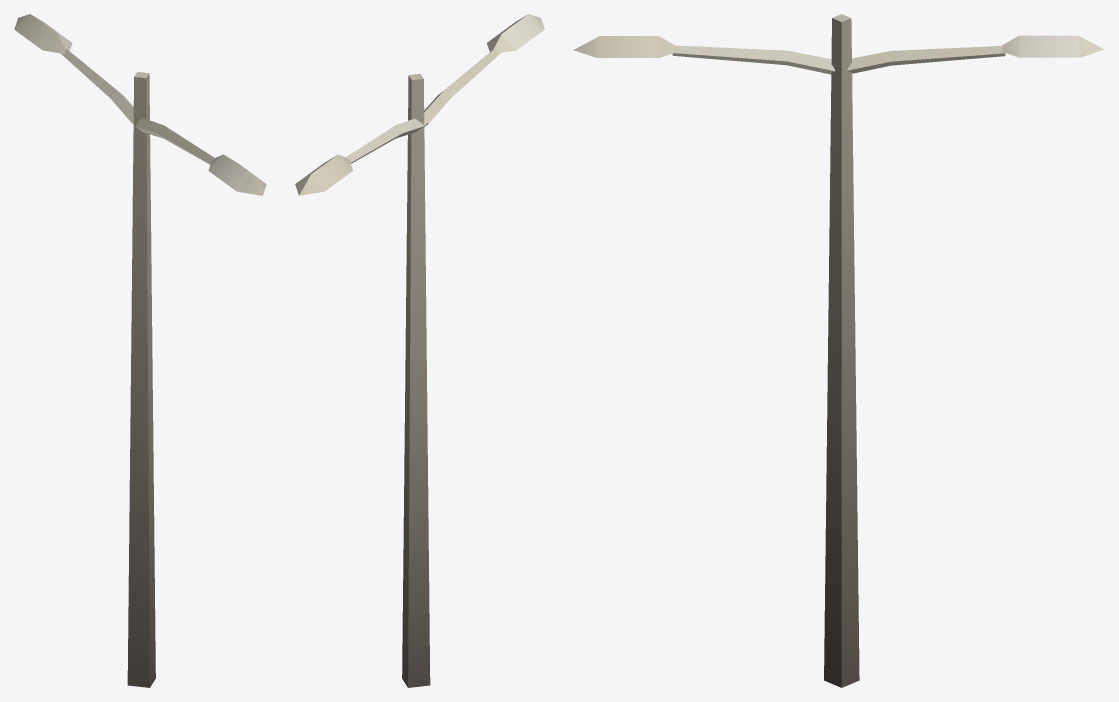
Rendered from SM_Pole_02.fbx.
3 views of the same model, side by side, from view 1: azimuth 30°, elevation 25°; view 2: azimuth 150°, elevation 25°; view 3: azimuth 270°, elevation 25° (orthographic). The views are drawn at different scales.
Visible parts, largest first — view 1: SM_Pole_02; view 2: SM_Pole_02; view 3: SM_Pole_02.
Boxes of the visible parts, <box> form: SM_Pole_02: <box>14,14,266,687</box>; SM_Pole_02: <box>295,14,544,687</box>; SM_Pole_02: <box>573,14,1104,687</box>.
Size of the model in its own units: 0.1315 by 2.37 by 1.72.
